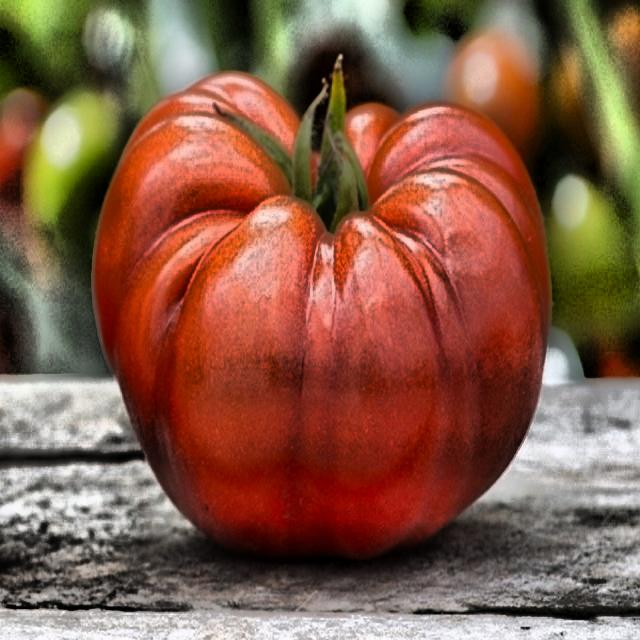tomato: (23, 5, 570, 624)
